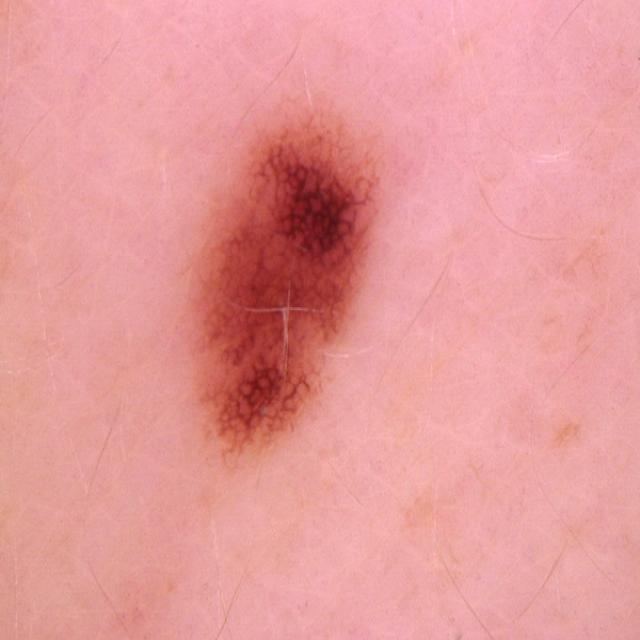NV: (179, 100, 385, 466)
